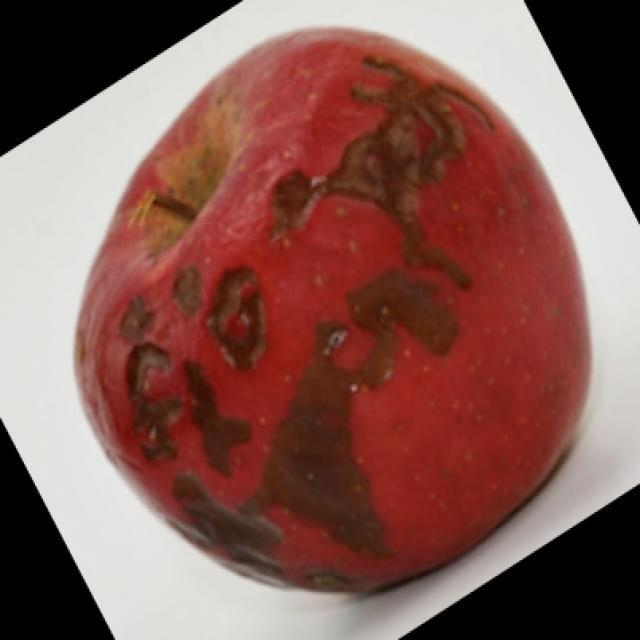Rotten: (40, 40, 583, 587)
